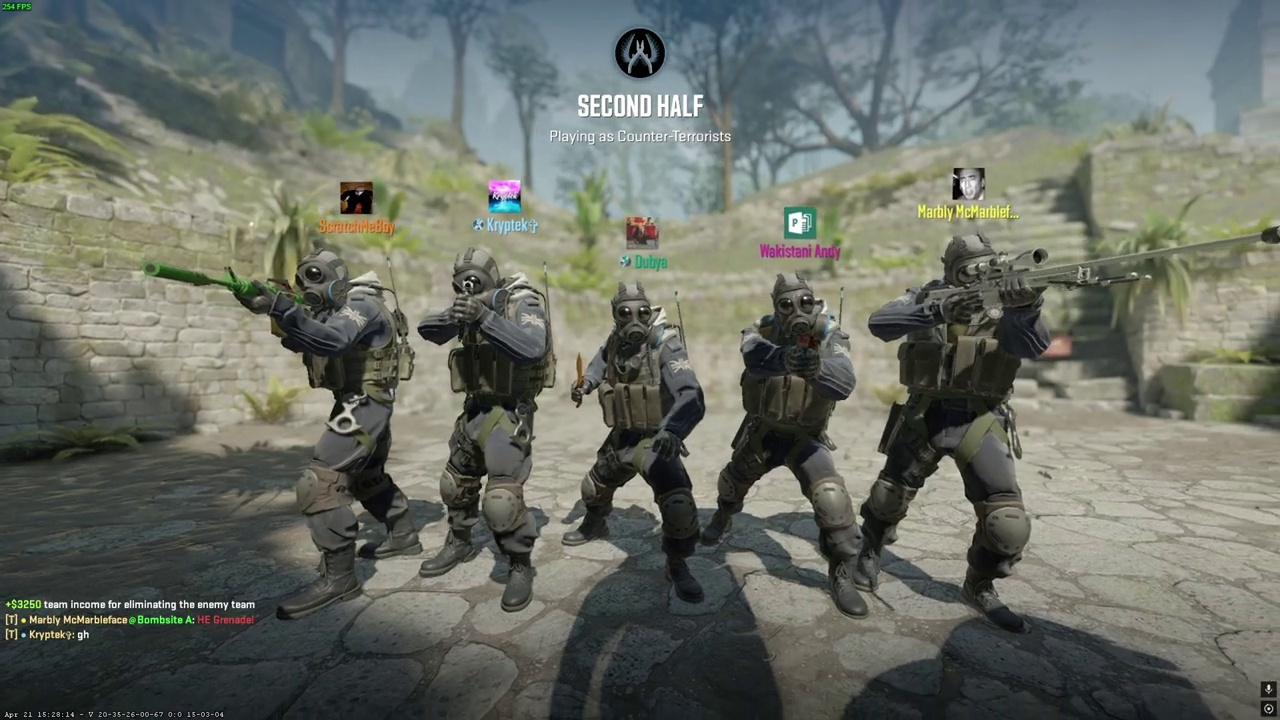CT: (860, 230, 1052, 631), (266, 247, 421, 618), (710, 271, 869, 611), (418, 247, 557, 612), (569, 279, 706, 603)
